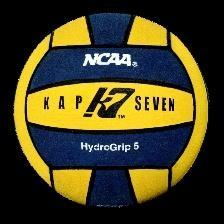Sports-Ball: (13, 14, 208, 212)
